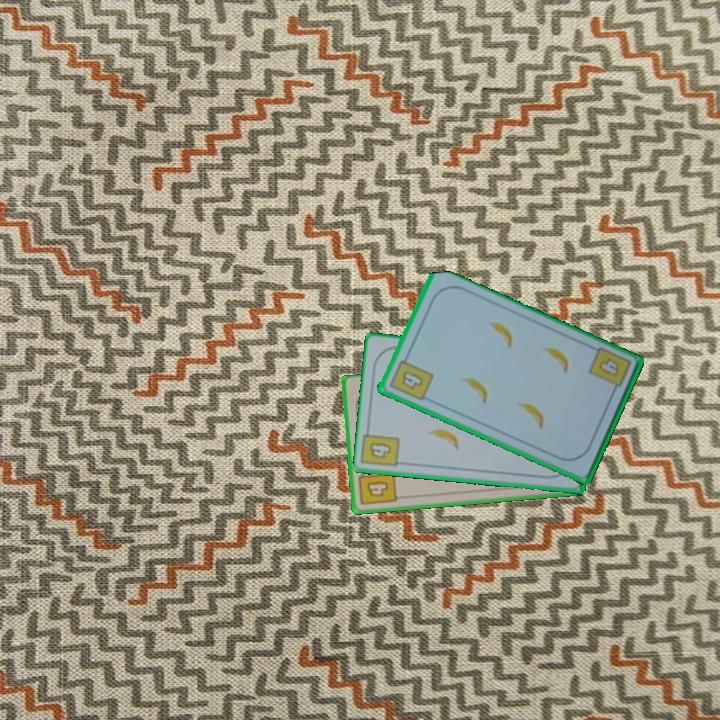4b: (385, 351, 436, 404), (585, 344, 634, 398), (355, 465, 400, 508), (366, 439, 394, 462)
